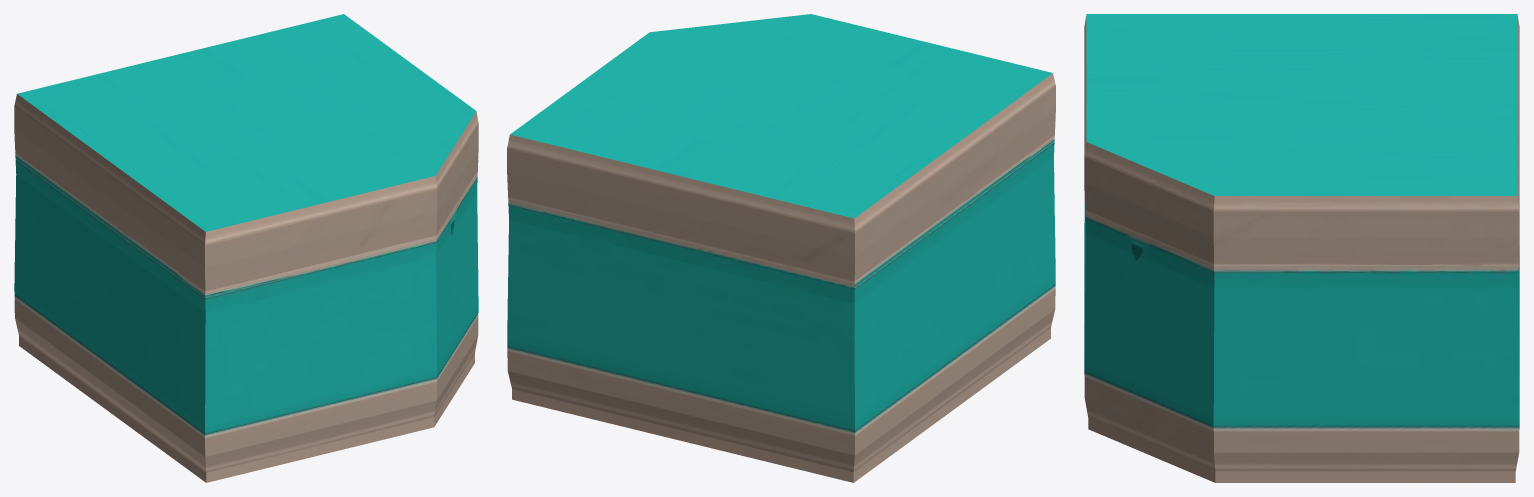
The model's file is corner_rect90_teal.glb.
3 views of the same model, side by side, from view 1: azimuth 30°, elevation 25°; view 2: azimuth 150°, elevation 25°; view 3: azimuth 270°, elevation 25° (orthographic). The views are drawn at different scales.
Parts seen in each view (by area): view 1: corner_rect90_teal; view 2: corner_rect90_teal; view 3: corner_rect90_teal.
Boxes of the visible parts, <box> form: corner_rect90_teal: <box>14,14,478,482</box>; corner_rect90_teal: <box>507,14,1055,482</box>; corner_rect90_teal: <box>1084,14,1519,482</box>.
Size of the model in its own units: 0.7399 by 0.5391 by 0.7399.
Materials: 1 (1 with a texture image).
